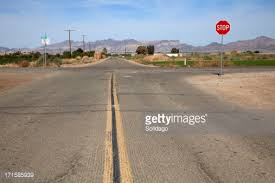stop_sign: (215, 20, 231, 35)
